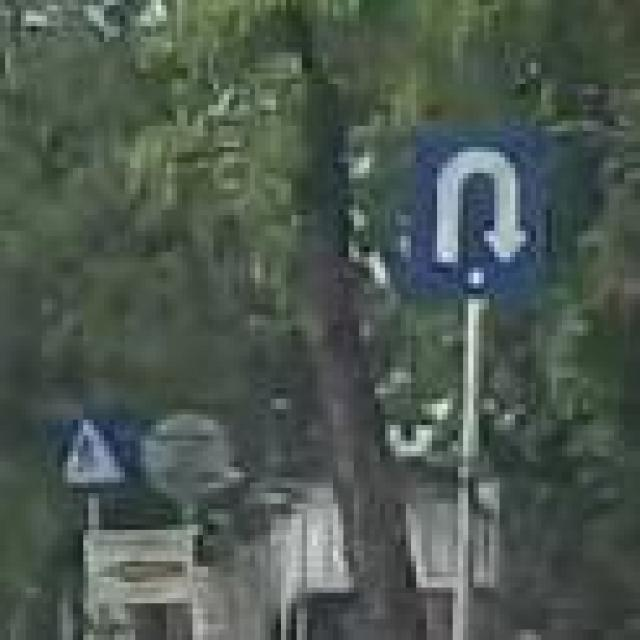traffic sign: (411, 126, 552, 299)
